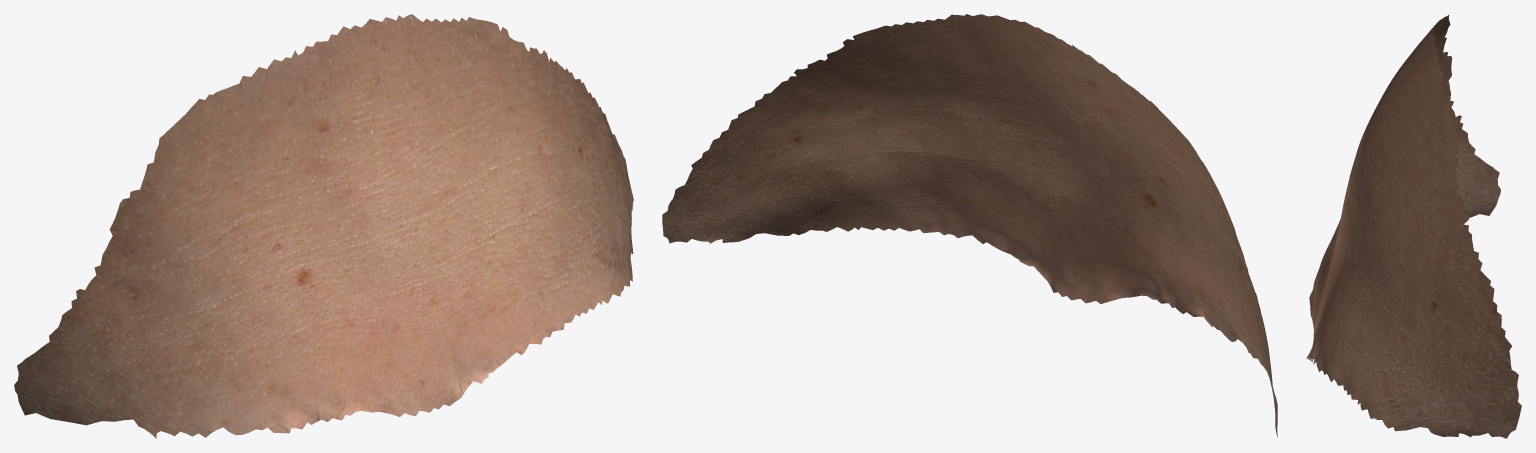
The model's file is forehead03.obj.
3 views of the same model, side by side, from view 1: azimuth 30°, elevation 25°; view 2: azimuth 150°, elevation 25°; view 3: azimuth 270°, elevation 25° (orthographic). The views are drawn at different scales.
Visible parts, largest first — view 1: default; view 2: default; view 3: default.
Part boxes in pixels (x1=…): default: x1=14, y1=14, x2=633, y2=438; default: x1=662, y1=14, x2=1277, y2=437; default: x1=1306, y1=14, x2=1521, y2=438.
Bounding box in the file's own units: 118 × 61.81 × 38.66.
Materials: 1 (1 with a texture image).
